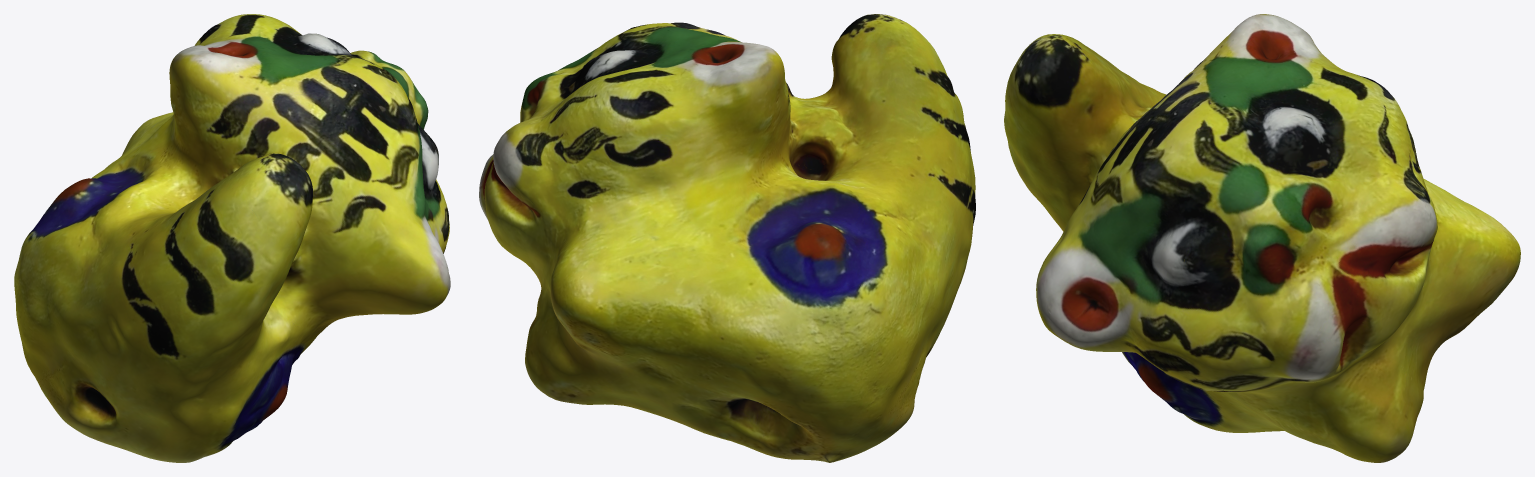
3 views of the same model, side by side, from view 1: azimuth 30°, elevation 25°; view 2: azimuth 150°, elevation 25°; view 3: azimuth 270°, elevation 25° (orthographic). The views are drawn at different scales.
Size of the model in its own units: 0.4472 by 0.3975 by 0.4471.
Materials: 1 (1 with a texture image).
